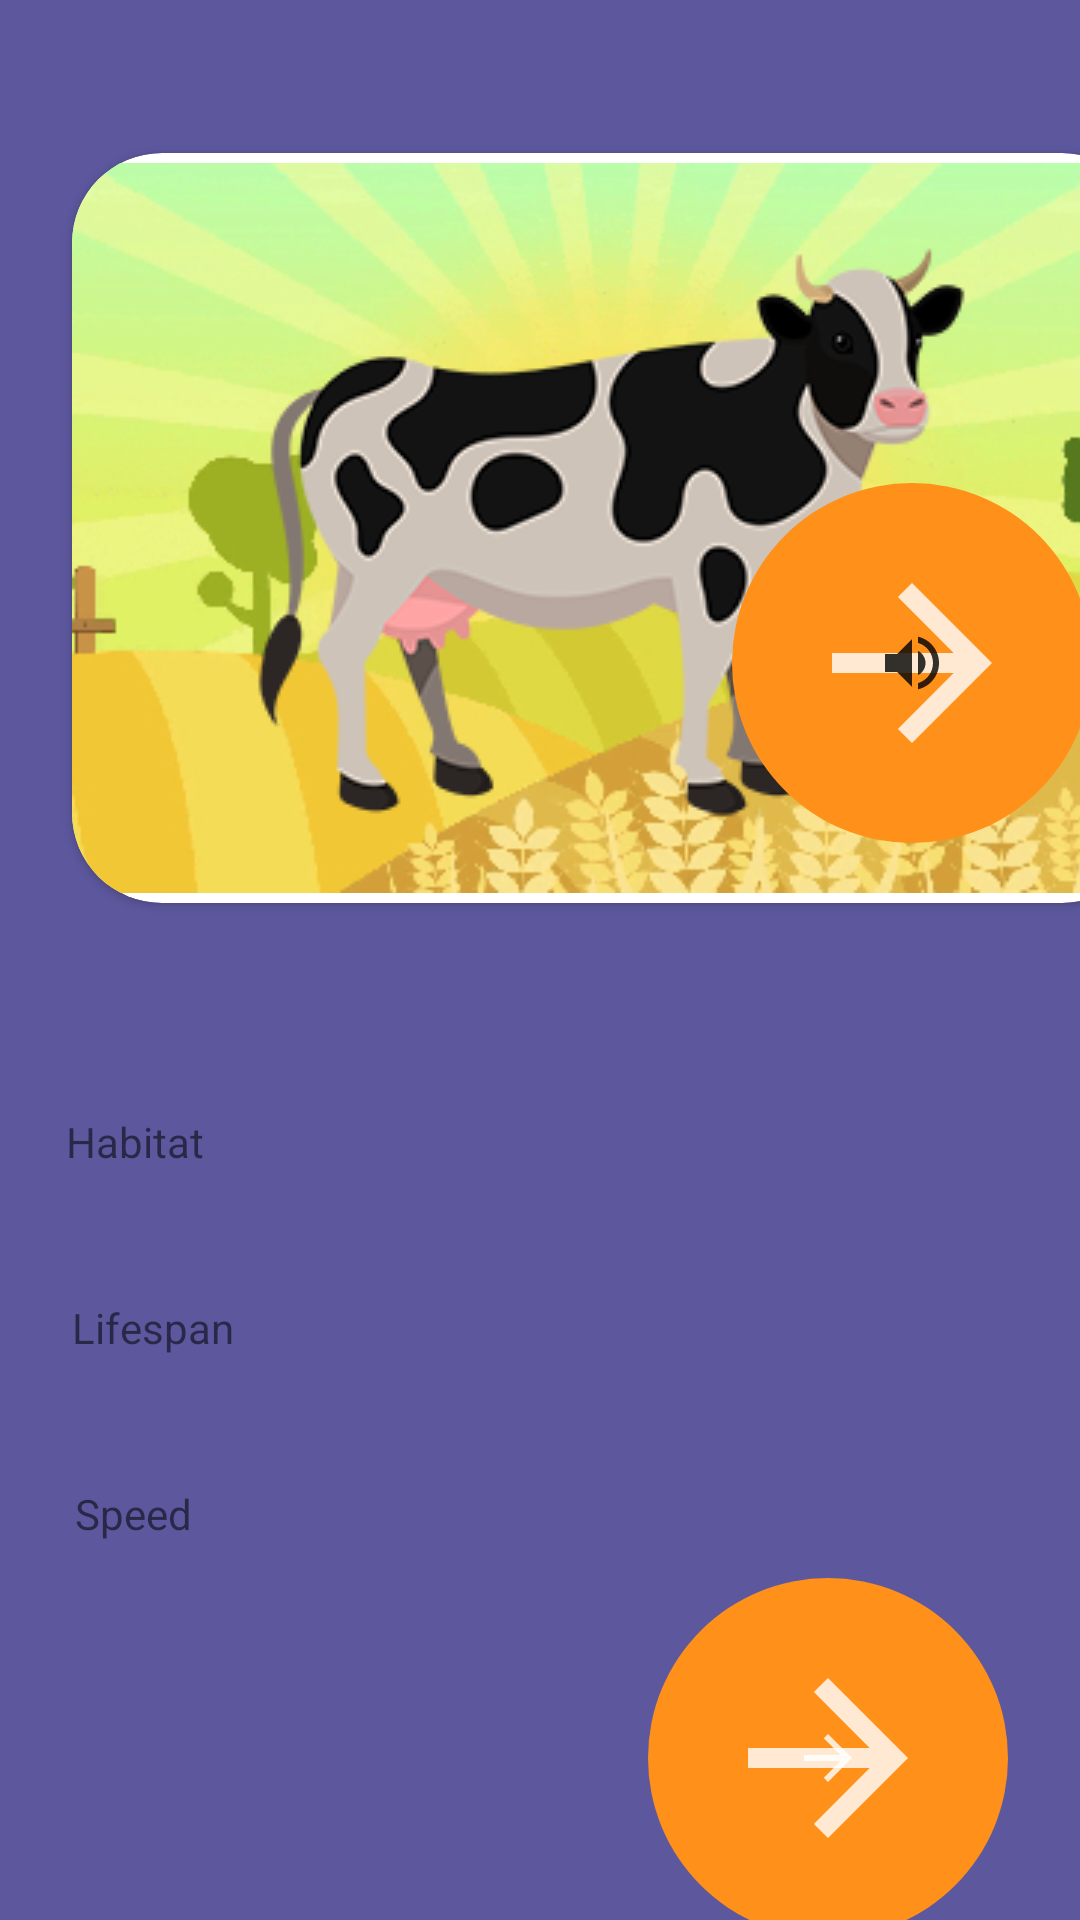

Where to tap for icons on this 1080x1920 app screen, as (x,y):
arrow next: (828,1758)
